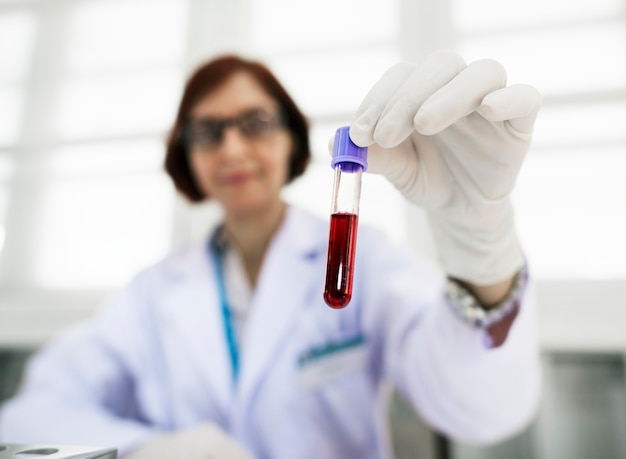blood: (322, 209, 360, 311)
